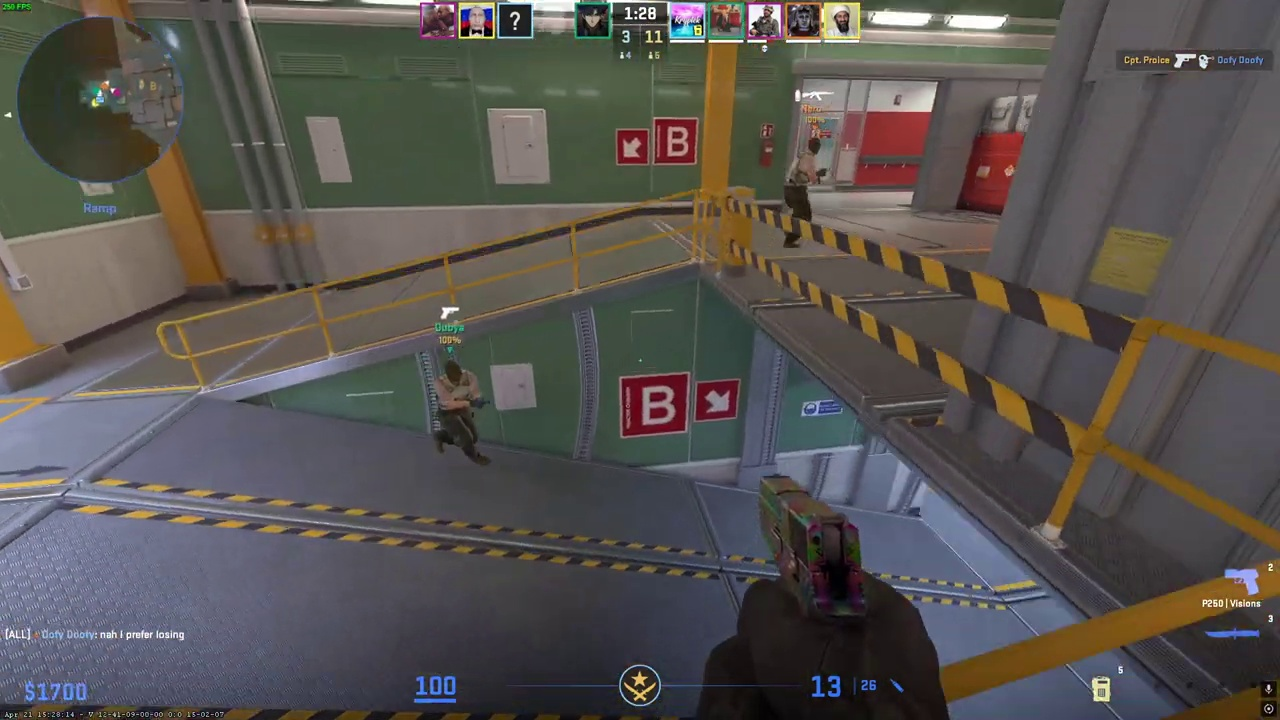Terrorist: (433, 359, 488, 466), (783, 137, 827, 248)
